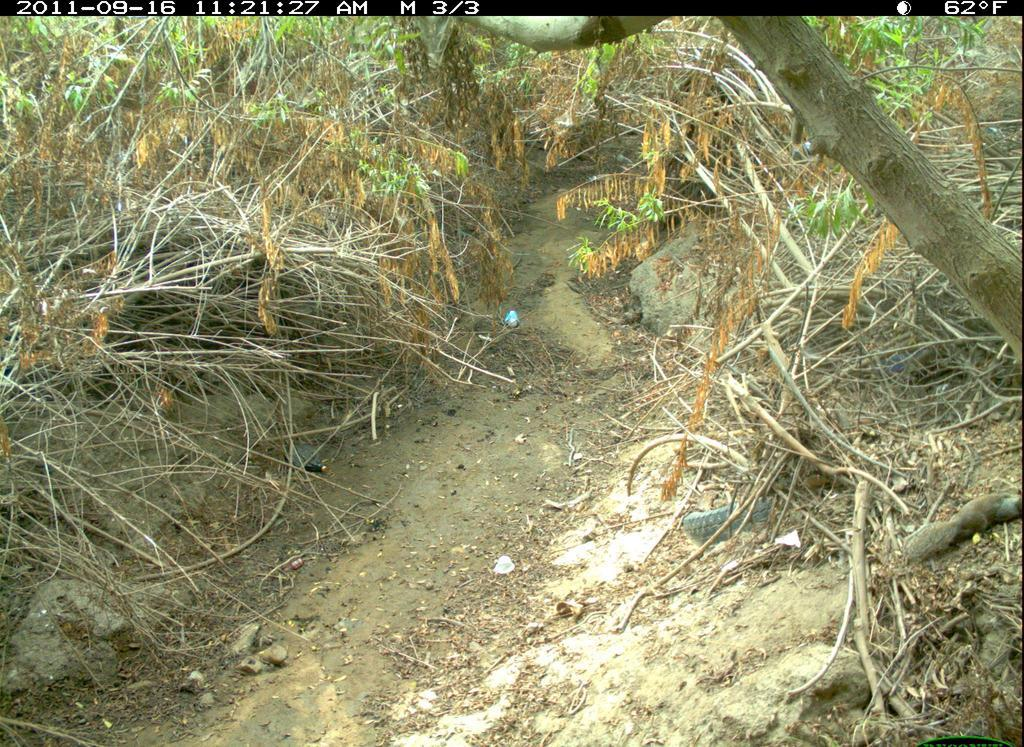squirrel: (900, 454, 1018, 578)
